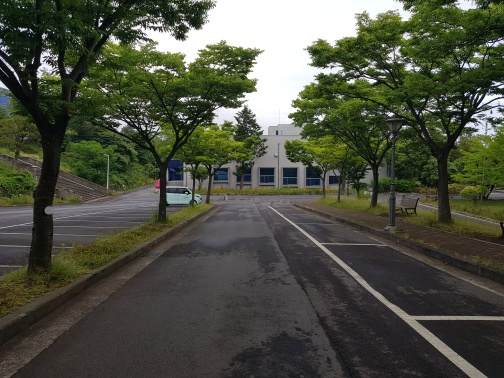College of Social Sciences: (158, 114, 388, 193)
